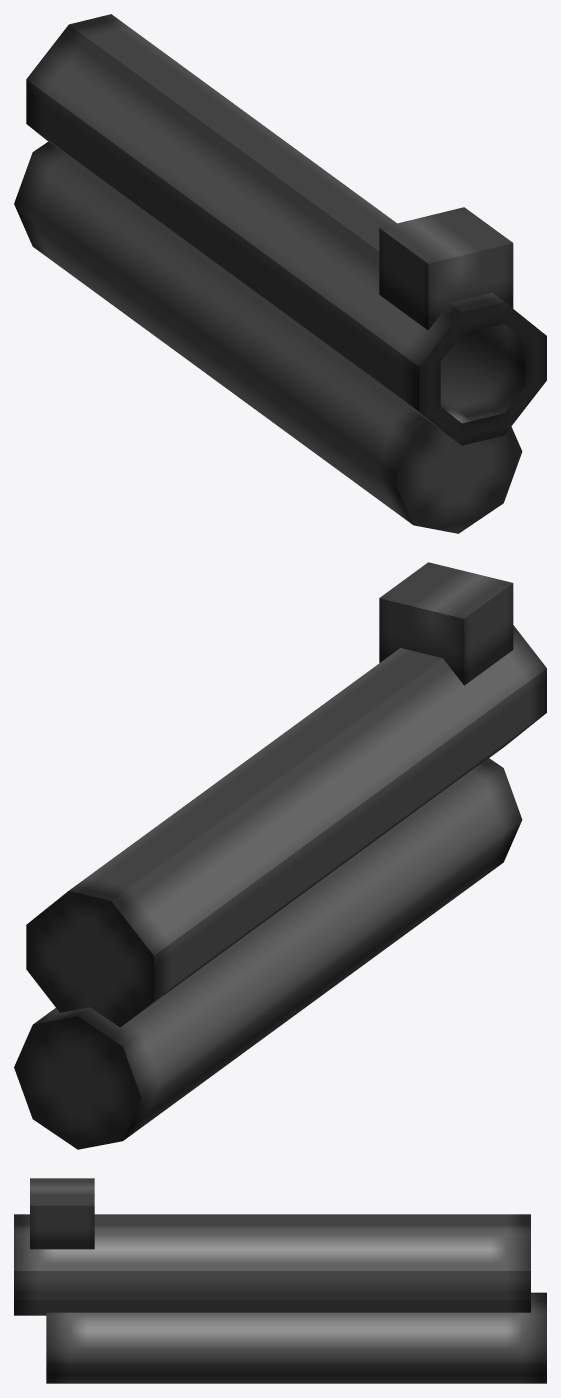
The model's file is henry_front.obj.
3 renders of one model, top to bottom at view 1: azimuth 30°, elevation 25°; view 2: azimuth 150°, elevation 25°; view 3: azimuth 270°, elevation 25°, orthographic. The views are drawn at different scales.
Visible parts, largest first — view 1: Front; view 2: Front; view 3: Front.
Boxes of the visible parts, bbox=[...] form: Front: bbox=[14, 14, 546, 533]; Front: bbox=[14, 562, 546, 1149]; Front: bbox=[14, 1178, 546, 1383].
Size of the model in its own units: 0.375 by 0.8125 by 2.06.
